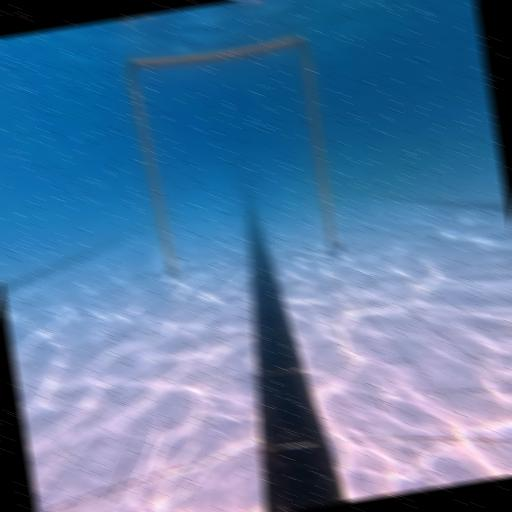gate: (124, 29, 344, 278)
